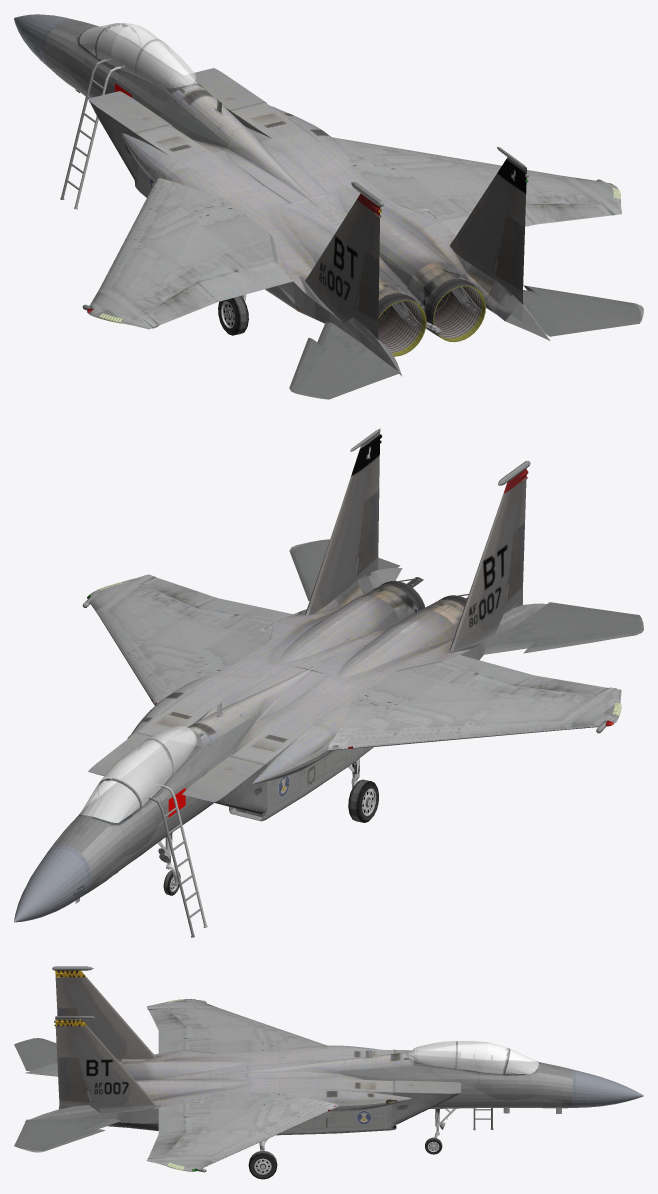
3 views of the same model, one above another, from view 1: azimuth 30°, elevation 25°; view 2: azimuth 150°, elevation 25°; view 3: azimuth 270°, elevation 25° (orthographic). The views are drawn at different scales.
Visible parts, largest first — view 1: airframe, elevator_l, canopy, elevator_r, flap_l, rudder_r, rudder_l, aileron_l, aileron_r, gear_Left_Main_wheel; view 2: airframe, canopy, elevator_l, elevator_r, rudder_r, flap_l, rudder_l, gear_Left_Main_wheel, flap_r, aileron_l, aileron_r; view 3: airframe, canopy, elevator_r, rudder_r, elevator_l, flap_r, gear_Right_Main_wheel, flap_l, aileron_r, aileron_l.
Part boxes in pixels (left/top/right/bottom): airframe: left=14, top=14, right=621, bottom=376; elevator_l: left=289, top=322, right=399, bottom=399; canopy: left=78, top=23, right=202, bottom=94; elevator_r: left=523, top=285, right=643, bottom=336; flap_l: left=198, top=260, right=292, bottom=301; rudder_r: left=498, top=216, right=524, bottom=291; rudder_l: left=353, top=252, right=379, bottom=326; aileron_l: left=146, top=283, right=217, bottom=325; aileron_r: left=525, top=204, right=609, bottom=224; gear_Left_Main_wheel: left=218, top=296, right=248, bottom=335; airframe: left=14, top=428, right=621, bottom=937; canopy: left=80, top=726, right=203, bottom=825; elevator_l: left=483, top=602, right=643, bottom=654; elevator_r: left=289, top=539, right=400, bottom=600; rudder_r: left=359, top=489, right=379, bottom=572; flap_l: left=440, top=655, right=533, bottom=684; rudder_l: left=504, top=524, right=524, bottom=608; gear_Left_Main_wheel: left=348, top=779, right=378, bottom=822; flap_r: left=199, top=598, right=292, bottom=621; aileron_l: left=516, top=675, right=607, bottom=694; aileron_r: left=146, top=578, right=217, bottom=607; airframe: left=25, top=966, right=643, bottom=1172; canopy: left=404, top=1041, right=540, bottom=1075; elevator_r: left=14, top=1118, right=120, bottom=1152; rudder_r: left=57, top=1056, right=88, bottom=1101; elevator_l: left=14, top=1038, right=57, bottom=1070; flap_r: left=158, top=1103, right=184, bottom=1133; gear_Right_Main_wheel: left=248, top=1150, right=277, bottom=1179; flap_l: left=158, top=1027, right=184, bottom=1053; aileron_r: left=149, top=1131, right=184, bottom=1157; aileron_l: left=148, top=1008, right=183, bottom=1030.
Bounding box in the file's own units: 12.6 × 5.68 × 19.51.
23 materials, 21 textured.
